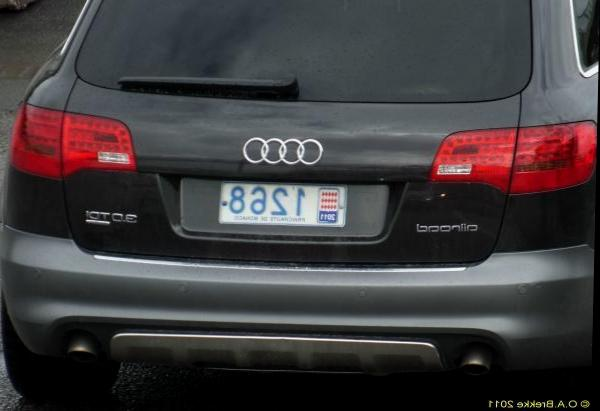License_Plate: (221, 184, 350, 222)
